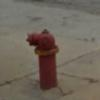a fire hydrant: (28, 30, 59, 88)
